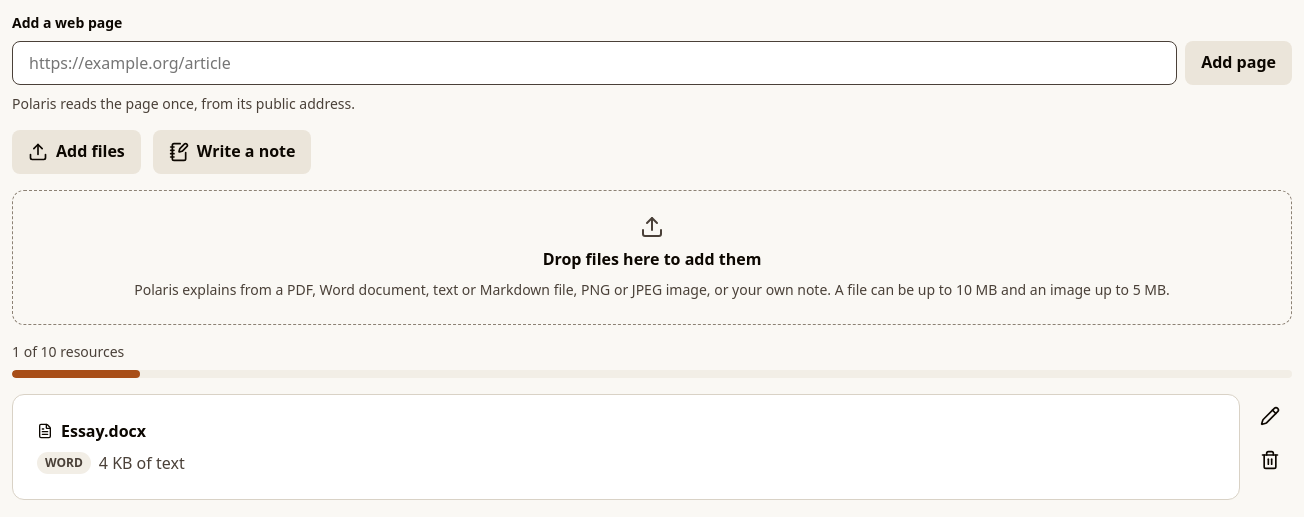
Test: a Word document that cannot be drawn shows its text, marked text only (RS-16)
The width and height of the screenshot is (1304, 517).
Click the button "Essay.docx Word 4 KB of text" at [104, 431], box [12,394,1240,500]
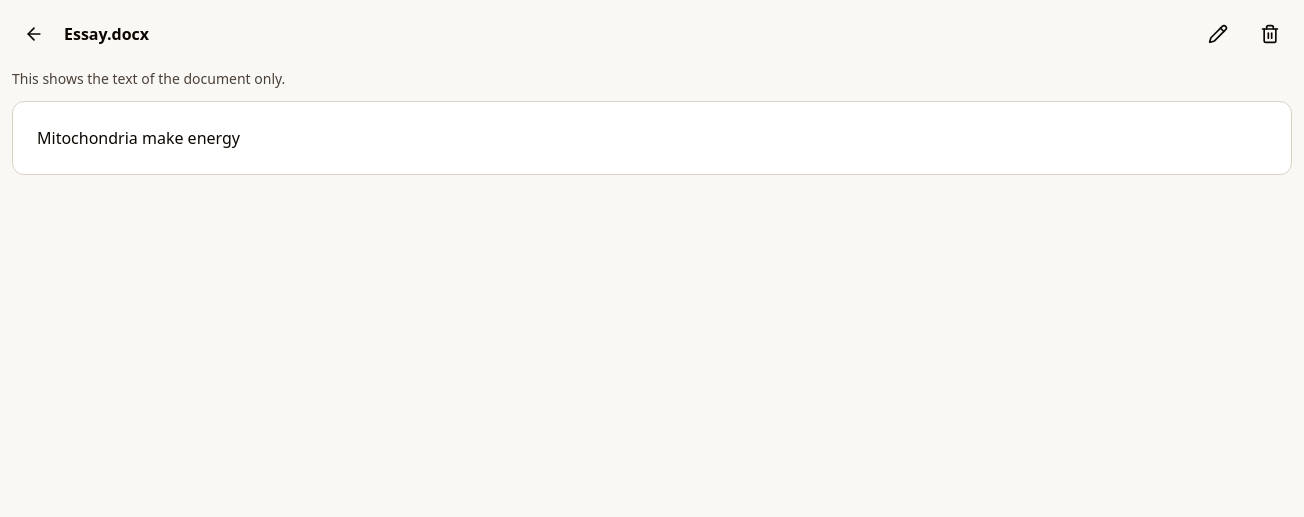
Result: the text "Mitochondria make energy" is shown at [12,101,1292,175]
Result: the text "This shows the text of the document only." is shown at [12,69,285,88]
